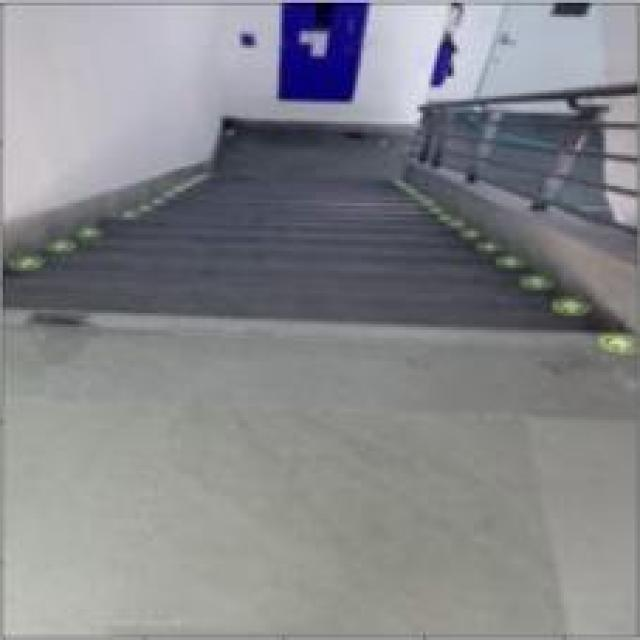stair: (87, 212, 488, 398)
